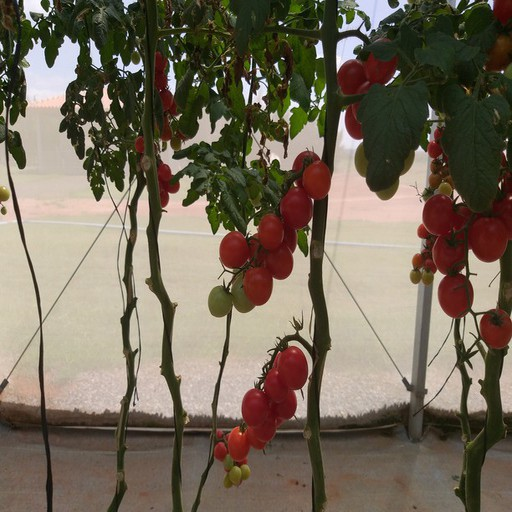mixed tomato bunch: (408, 125, 457, 296), (484, 5, 512, 84)
red tomato bunch: (218, 150, 329, 308), (424, 194, 512, 346), (337, 37, 416, 201), (134, 137, 178, 210), (148, 51, 172, 140)
